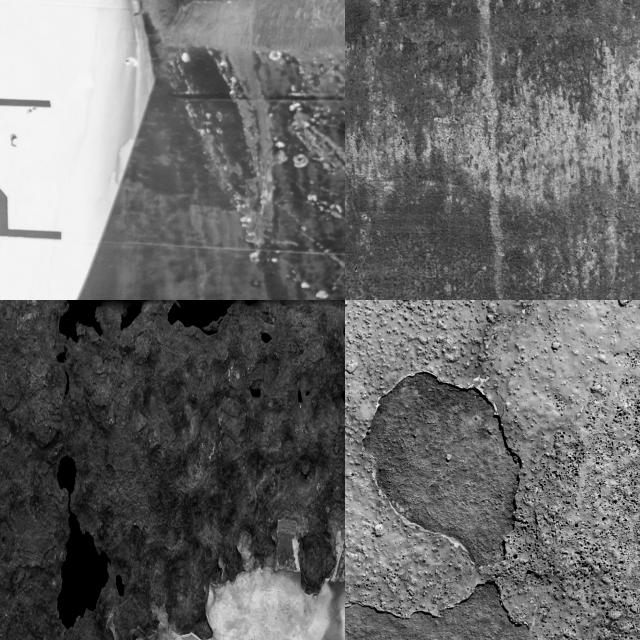Uniform Corrosion: (141, 0, 345, 300), (363, 372, 521, 566), (345, 160, 499, 300), (498, 187, 640, 300), (480, 0, 640, 89), (373, 15, 478, 145), (395, 15, 478, 68), (617, 189, 640, 254)
